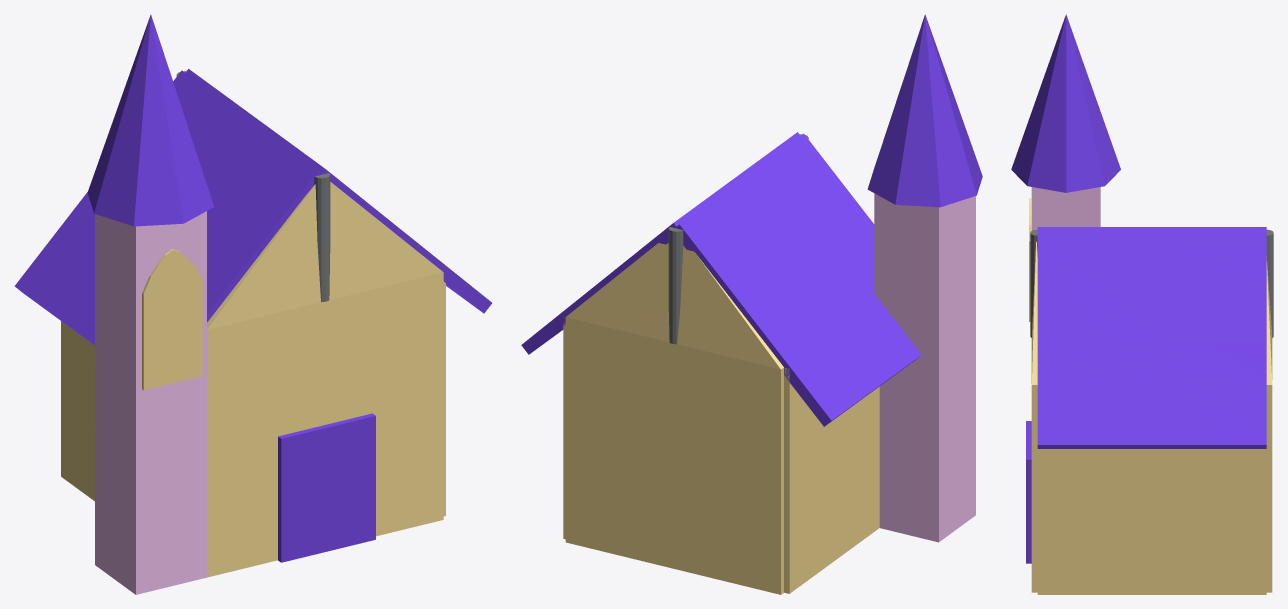
The model's file is HouseB.fbx.
3 views of the same model, side by side, from view 1: azimuth 30°, elevation 25°; view 2: azimuth 150°, elevation 25°; view 3: azimuth 270°, elevation 25° (orthographic). The views are drawn at different scales.
Visible parts, largest first — view 1: HouseB; view 2: HouseB; view 3: HouseB.
Boxes of the visible parts, x1,y1,x2,y2 form: HouseB: (14,14,491,594); HouseB: (521,14,982,594); HouseB: (1011,14,1273,594).
Bounding box in the file's own units: 6.44 × 9 × 4.59.
